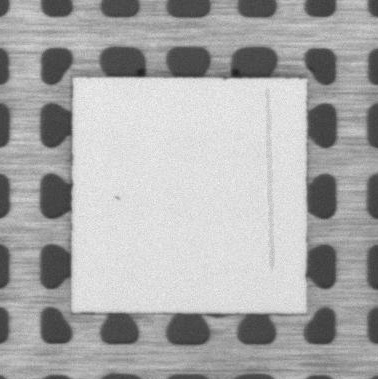DIE_CRACK: (268, 91, 272, 269)
